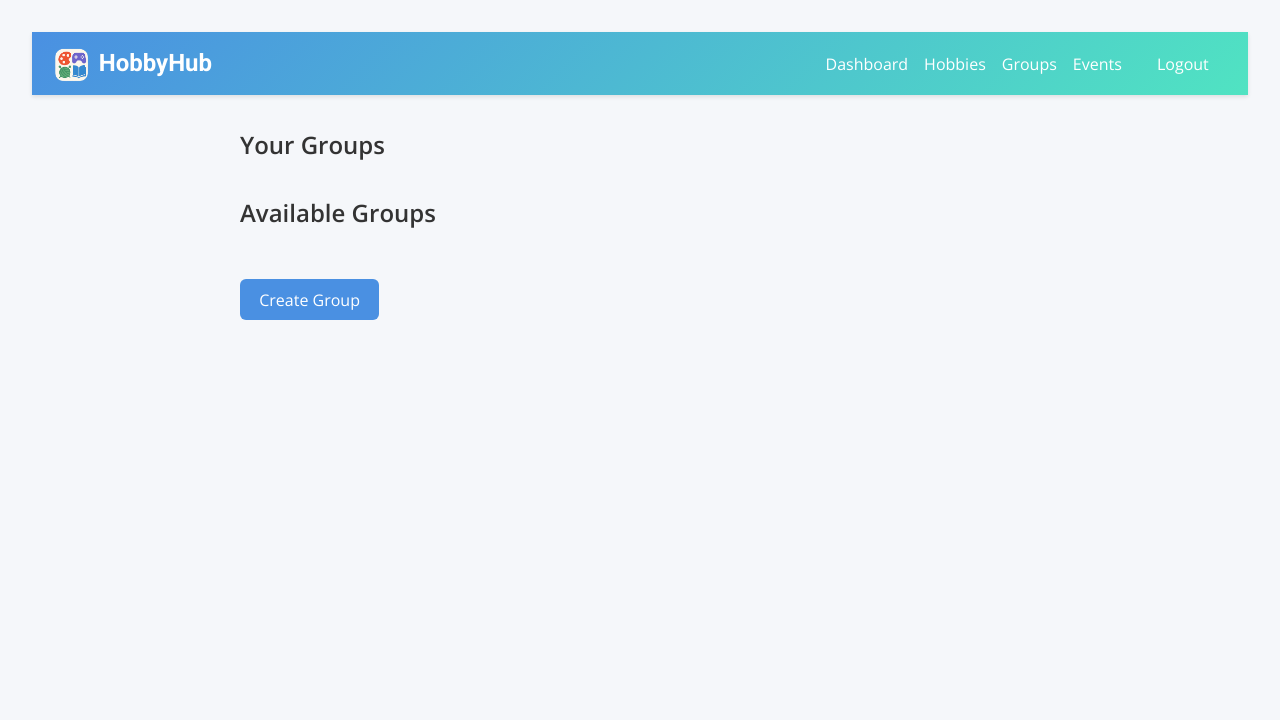
Test case: Groups page › refreshes groups after creating
The width and height of the screenshot is (1280, 720).
Click the button "Create Group" at [310, 300], box [240,279,379,320]
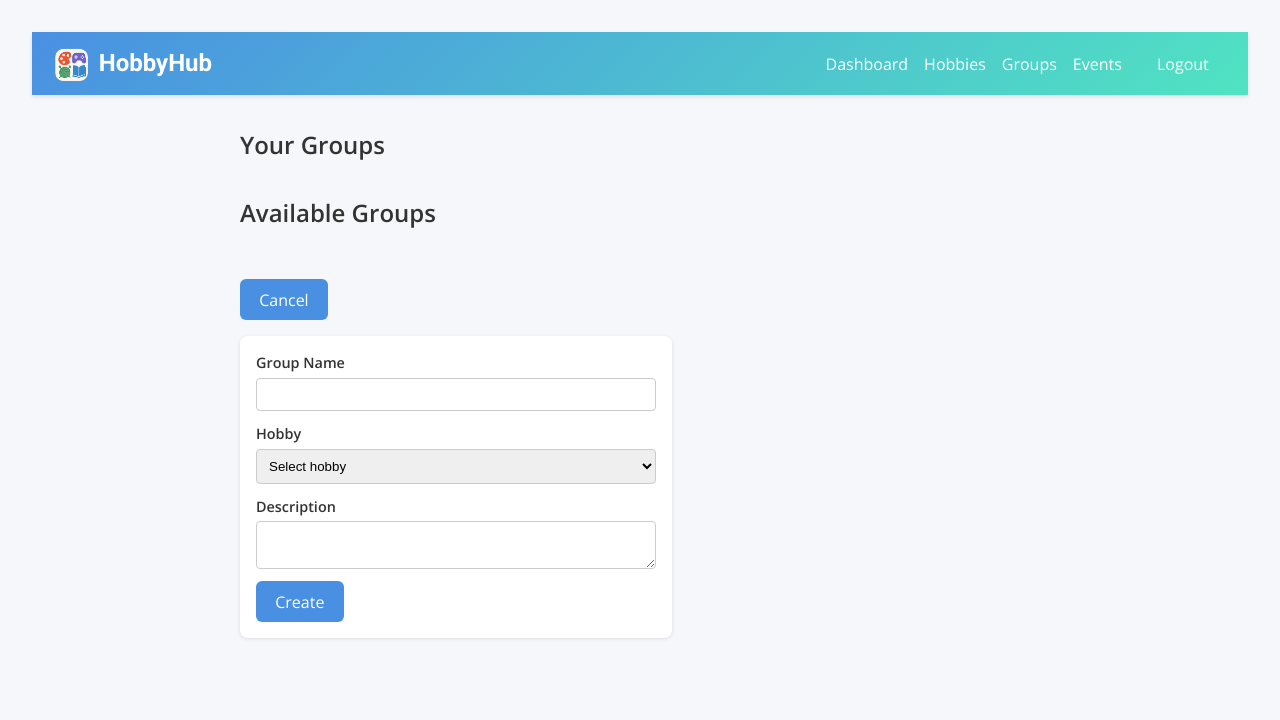
Type "Hiking Club" into the field labelled "Group Name" at [456, 394], box [256,378,656,411]
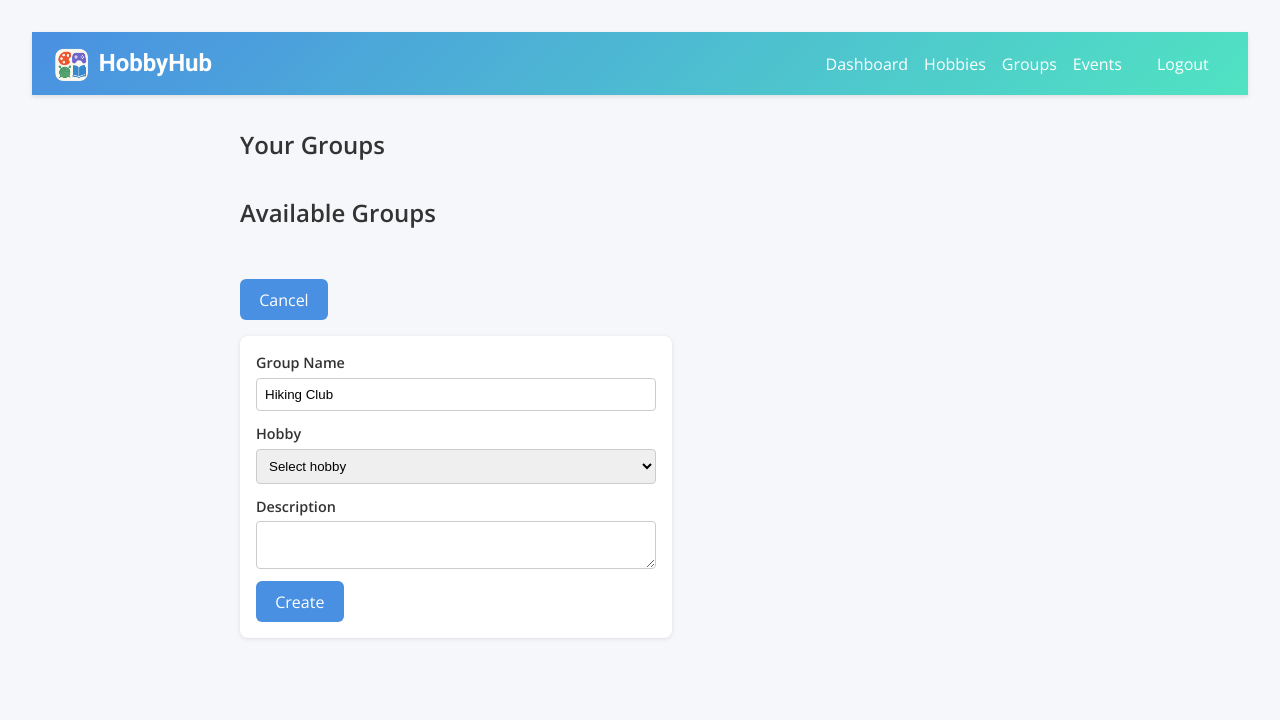
Select "Hiking" in the dropdown labelled "Hobby" at [456, 466], box [256,449,656,484]
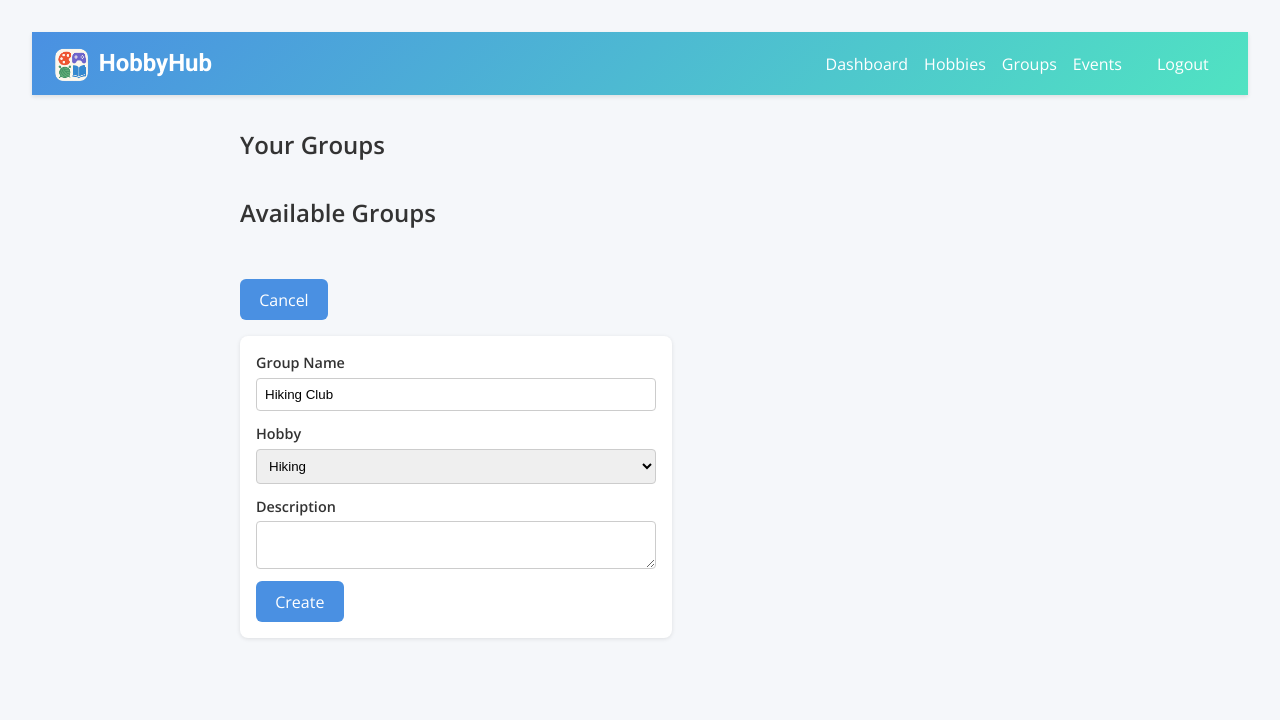
Type "Fun hikes" into the text box labelled "Description" at [456, 545], box [256,521,656,569]
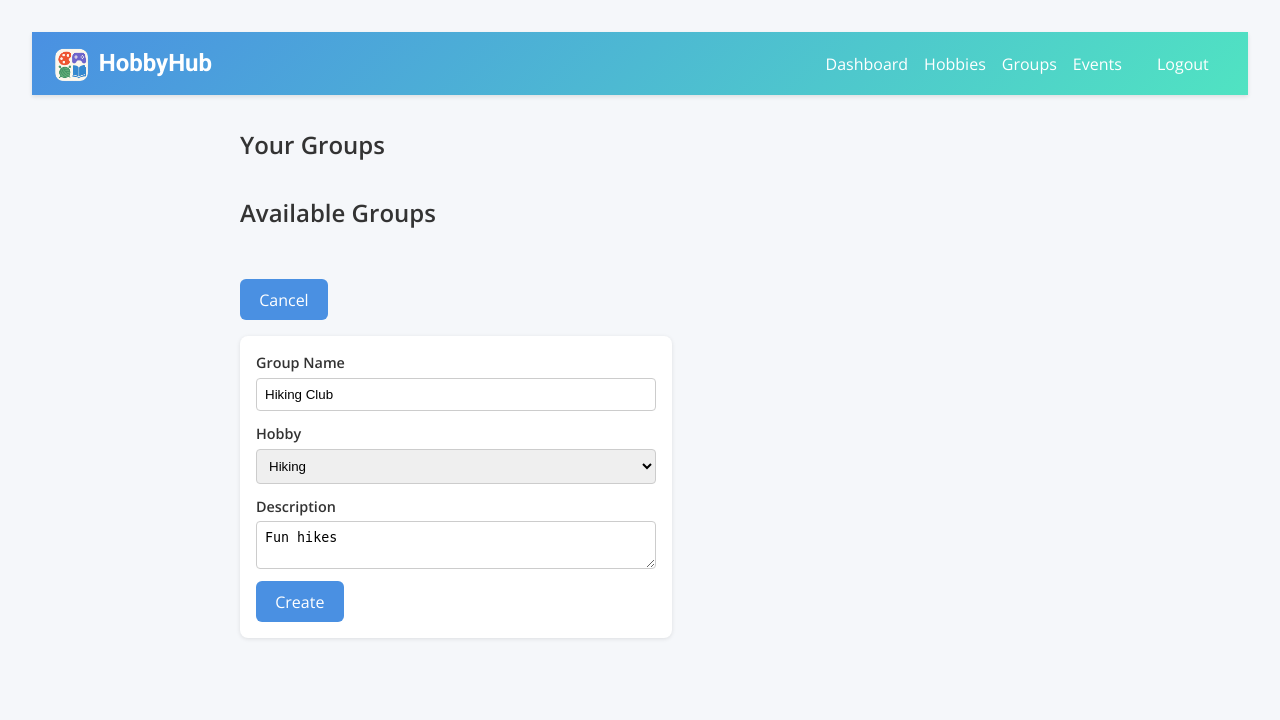
Click the button "Create" at [300, 602], box [256,581,344,622]
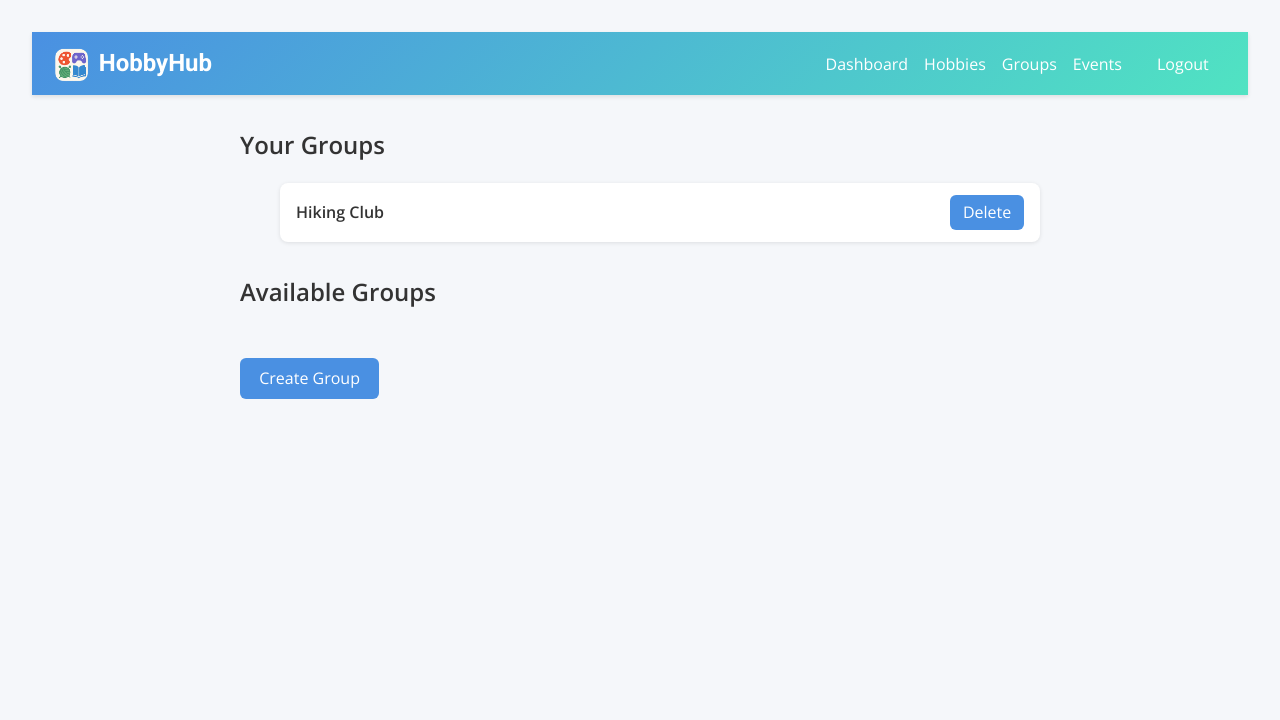
Expected: the button "Delete" is shown, [950,195,1024,230]
